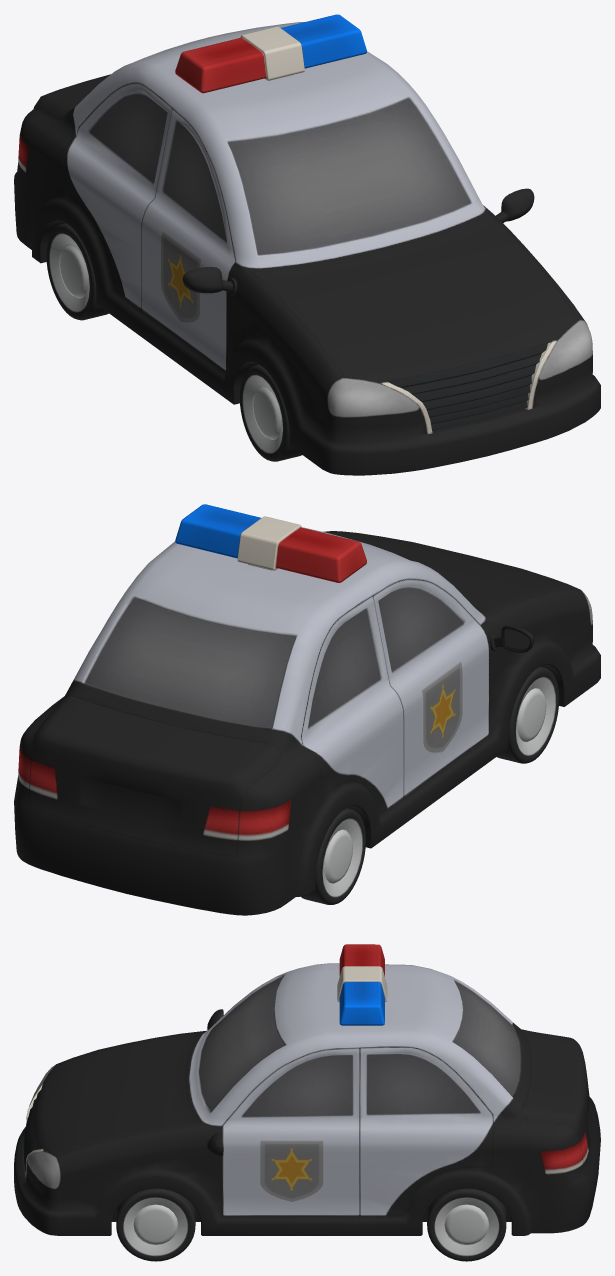
The model's file is arunangshubanerjee-police-car-2064.glb.
The picture shows the model from 3 angles, top to bottom: view 1: azimuth 30°, elevation 25°; view 2: azimuth 150°, elevation 25°; view 3: azimuth 270°, elevation 25°; orthographic projection. The views are drawn at different scales.
Visible parts, largest first — view 1: icon_policecar_base_stylized_lod0; view 2: icon_policecar_base_stylized_lod0; view 3: icon_policecar_base_stylized_lod0.
Part boxes in pixels (<box>): icon_policecar_base_stylized_lod0: <box>14,14,600,475</box>; icon_policecar_base_stylized_lod0: <box>14,504,600,915</box>; icon_policecar_base_stylized_lod0: <box>14,944,600,1261</box>.
Bounding box in the file's own units: 0.1222 × 0.0979 × 0.2209.
1 material, 1 textured.
